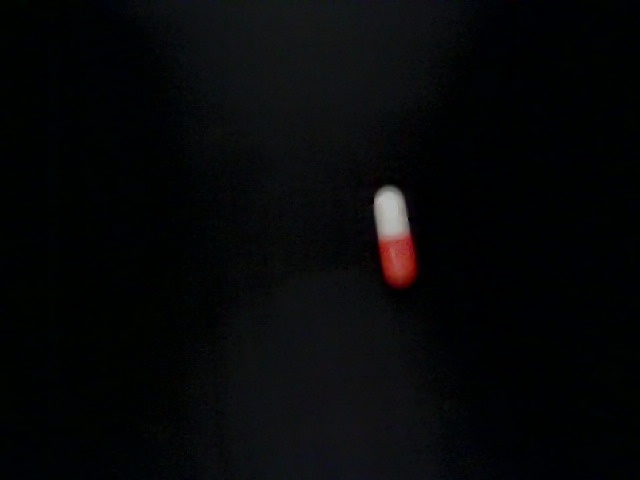YHLJ: (403, 23, 522, 87)
